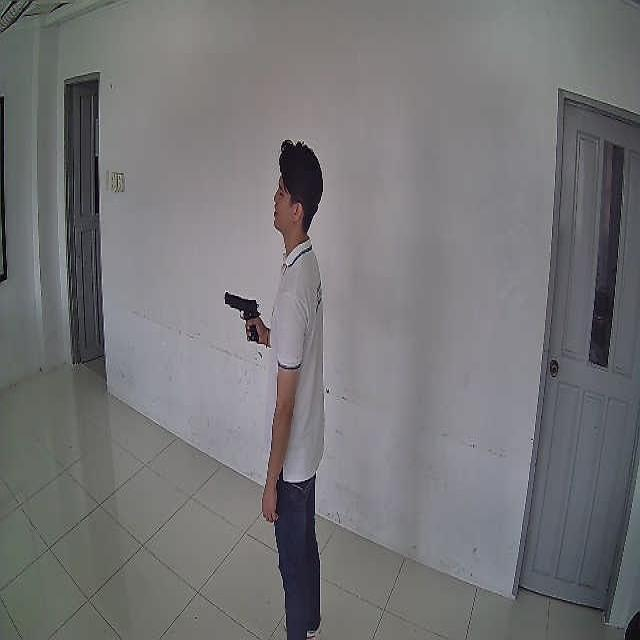pistol: (224, 292, 259, 341)
